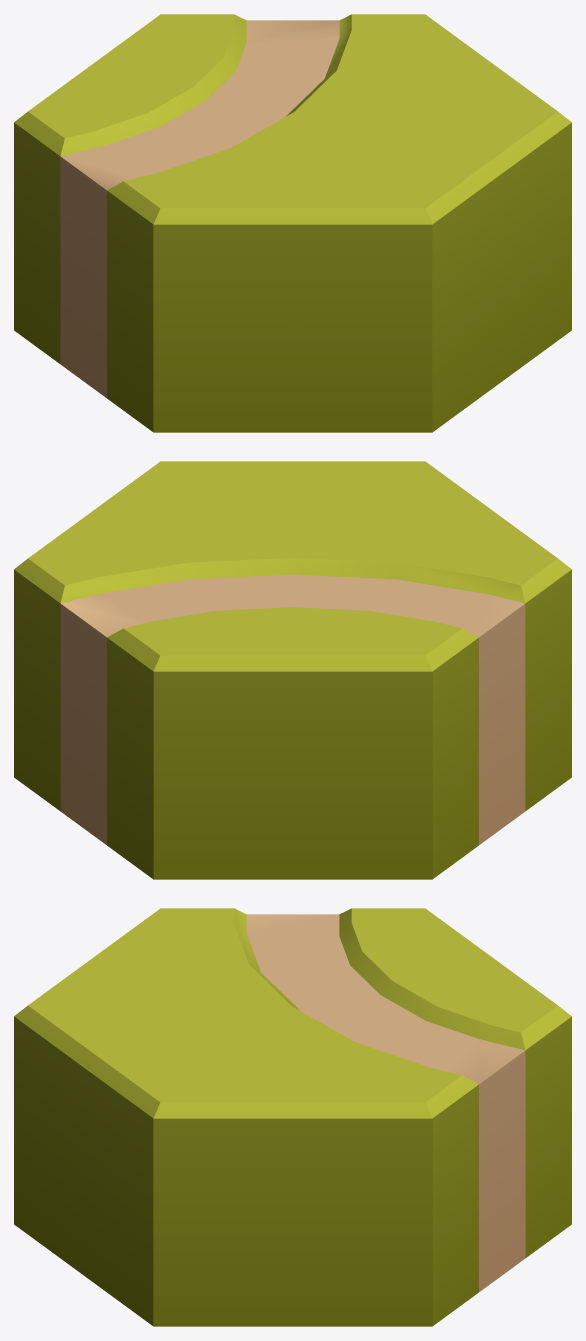
Rendered from hex_road_B.glb.
The picture shows the model from 3 angles, top to bottom: view 1: azimuth 30°, elevation 25°; view 2: azimuth 150°, elevation 25°; view 3: azimuth 270°, elevation 25°; orthographic projection.
Visible parts, largest first — view 1: hex_road_B; view 2: hex_road_B; view 3: hex_road_B.
Boxes of the visible parts, x1,y1,x2,y2 form: hex_road_B: [14, 14, 571, 432]; hex_road_B: [14, 461, 571, 879]; hex_road_B: [14, 908, 571, 1326].
Bounding box in the file's own units: 2 × 1 × 2.31.
Materials: 1 (1 with a texture image).
